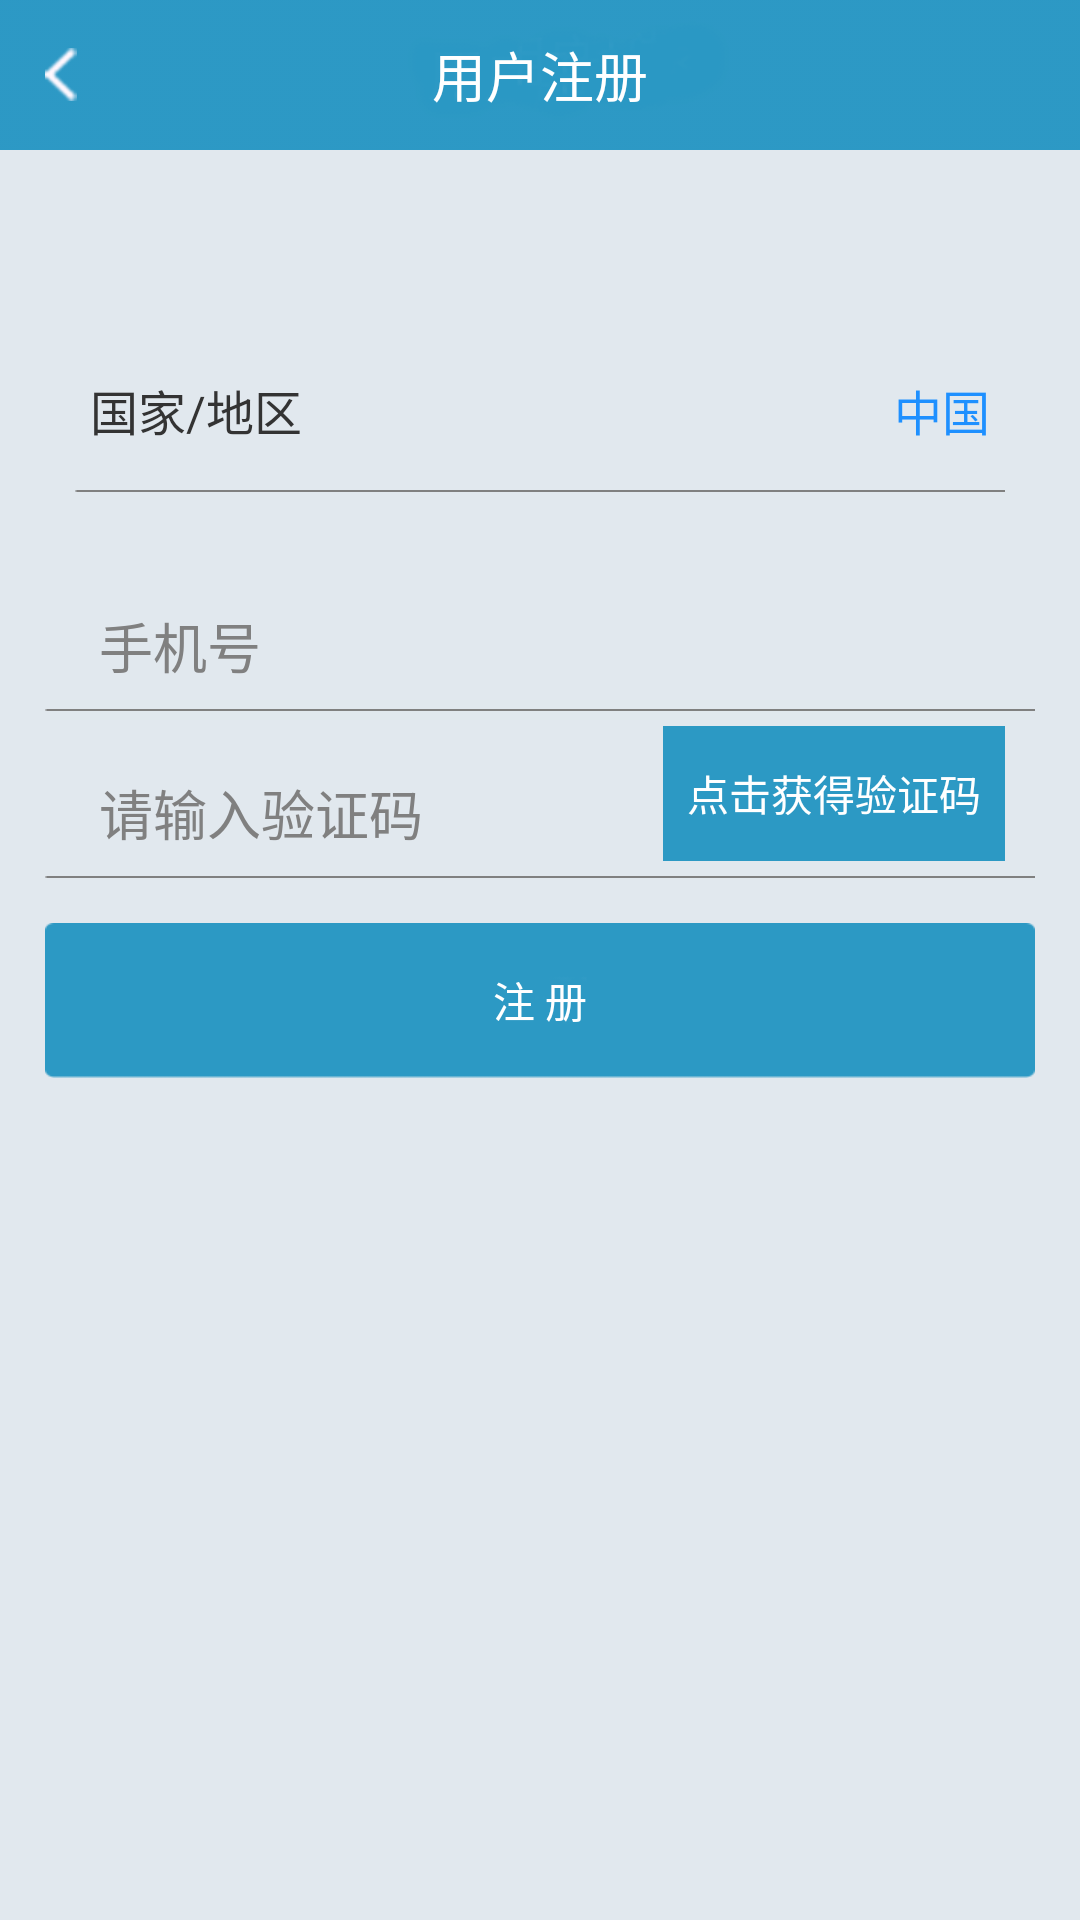

Named icons in this screenshot (1080 x 1920) and their bounding boxes, (x1, y1, x2, y2):
back: (45, 48, 77, 101)
